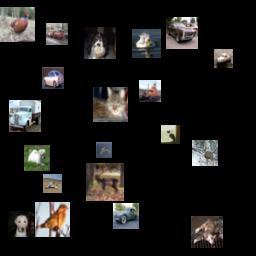airplane: (43, 174, 62, 193), (96, 142, 112, 158)
automobile: (166, 17, 198, 49), (113, 203, 139, 229), (42, 67, 64, 89)
bird: (35, 202, 70, 237), (0, 7, 35, 42), (132, 29, 161, 58)
cat: (93, 87, 128, 122), (191, 216, 223, 248), (161, 125, 180, 144)
deer: (86, 163, 124, 201), (192, 140, 218, 166)
dog: (84, 27, 116, 59), (24, 145, 50, 171), (8, 211, 34, 237)
ship: (139, 80, 161, 102), (214, 49, 233, 68)
truck: (9, 100, 41, 132), (46, 23, 68, 45)
